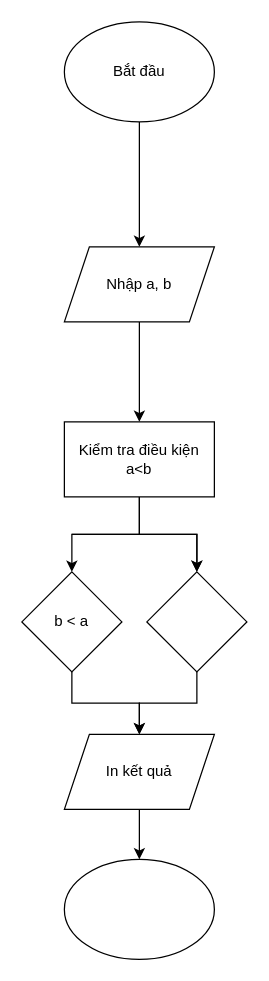
Image size: 269x981. Some labels were removed from this diagram. The centre of each missing label's shape, as x and y in pixels:
"a < b" belongs at pixel 196 621.
"Kết thúc" belongs at pixel 138 908.
